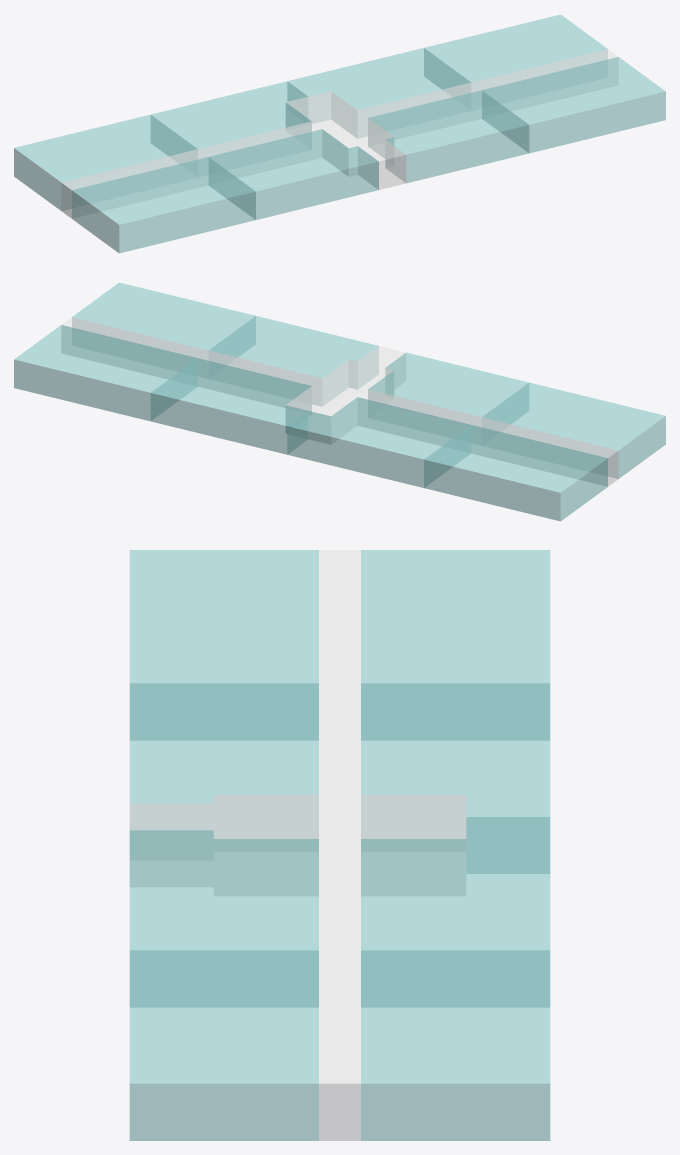
File: Corridor.glb
3 views of the same model, one above another, from view 1: azimuth 30°, elevation 25°; view 2: azimuth 150°, elevation 25°; view 3: azimuth 270°, elevation 25° (orthographic). The views are drawn at different scales.
Parts seen in each view (by area): view 1: f67303aa-89cc-49a1-a274-005ddb12f530_mesh, 304f9625-38fc-4c80-9cea-f953f38c76a2_mesh, b96049c8-8c16-449c-9fcf-3e9167182d77_mesh, 98c9f90e-6d3d-4090-86c8-c45549c8ea35_mesh, a1e814e6-0785-455b-960f-eeeaf71dabd7_mesh, a47fdfaa-7426-4bc4-9e53-7f2433407b07_mesh, 8854cb5b-9d62-4a24-a20a-388bc9da2358_mesh, 31eb7119-86d2-4047-9339-cb577639a1e9_mesh, f6e957ef-61f8-4e37-b6ef-d7fbcb38b0fe_mesh; view 2: f67303aa-89cc-49a1-a274-005ddb12f530_mesh, a47fdfaa-7426-4bc4-9e53-7f2433407b07_mesh, 31eb7119-86d2-4047-9339-cb577639a1e9_mesh, f6e957ef-61f8-4e37-b6ef-d7fbcb38b0fe_mesh, 8854cb5b-9d62-4a24-a20a-388bc9da2358_mesh, 304f9625-38fc-4c80-9cea-f953f38c76a2_mesh, b96049c8-8c16-449c-9fcf-3e9167182d77_mesh, a1e814e6-0785-455b-960f-eeeaf71dabd7_mesh, 98c9f90e-6d3d-4090-86c8-c45549c8ea35_mesh; view 3: f67303aa-89cc-49a1-a274-005ddb12f530_mesh, b96049c8-8c16-449c-9fcf-3e9167182d77_mesh, 31eb7119-86d2-4047-9339-cb577639a1e9_mesh, 304f9625-38fc-4c80-9cea-f953f38c76a2_mesh, a47fdfaa-7426-4bc4-9e53-7f2433407b07_mesh, 8854cb5b-9d62-4a24-a20a-388bc9da2358_mesh, a1e814e6-0785-455b-960f-eeeaf71dabd7_mesh, f6e957ef-61f8-4e37-b6ef-d7fbcb38b0fe_mesh, 98c9f90e-6d3d-4090-86c8-c45549c8ea35_mesh.
Part boxes in pixels (x1=…): f67303aa-89cc-49a1-a274-005ddb12f530_mesh: x1=61, y1=49, x2=618, y2=218; 304f9625-38fc-4c80-9cea-f953f38c76a2_mesh: x1=72, y1=157, x2=255, y2=253; b96049c8-8c16-449c-9fcf-3e9167182d77_mesh: x1=482, y1=57, x2=665, y2=153; 98c9f90e-6d3d-4090-86c8-c45549c8ea35_mesh: x1=209, y1=129, x2=378, y2=219; a1e814e6-0785-455b-960f-eeeaf71dabd7_mesh: x1=368, y1=90, x2=529, y2=183; a47fdfaa-7426-4bc4-9e53-7f2433407b07_mesh: x1=14, y1=114, x2=197, y2=210; 8854cb5b-9d62-4a24-a20a-388bc9da2358_mesh: x1=287, y1=48, x2=470, y2=138; 31eb7119-86d2-4047-9339-cb577639a1e9_mesh: x1=424, y1=14, x2=607, y2=92; f6e957ef-61f8-4e37-b6ef-d7fbcb38b0fe_mesh: x1=151, y1=81, x2=311, y2=158; f67303aa-89cc-49a1-a274-005ddb12f530_mesh: x1=61, y1=317, x2=618, y2=486; a47fdfaa-7426-4bc4-9e53-7f2433407b07_mesh: x1=424, y1=425, x2=607, y2=521; 31eb7119-86d2-4047-9339-cb577639a1e9_mesh: x1=14, y1=325, x2=197, y2=421; f6e957ef-61f8-4e37-b6ef-d7fbcb38b0fe_mesh: x1=287, y1=397, x2=470, y2=487; 8854cb5b-9d62-4a24-a20a-388bc9da2358_mesh: x1=150, y1=358, x2=311, y2=454; 304f9625-38fc-4c80-9cea-f953f38c76a2_mesh: x1=482, y1=382, x2=665, y2=478; b96049c8-8c16-449c-9fcf-3e9167182d77_mesh: x1=72, y1=282, x2=255, y2=360; a1e814e6-0785-455b-960f-eeeaf71dabd7_mesh: x1=209, y1=316, x2=378, y2=406; 98c9f90e-6d3d-4090-86c8-c45549c8ea35_mesh: x1=368, y1=352, x2=528, y2=426; f67303aa-89cc-49a1-a274-005ddb12f530_mesh: x1=129, y1=550, x2=466, y2=1140; b96049c8-8c16-449c-9fcf-3e9167182d77_mesh: x1=129, y1=950, x2=318, y2=1140; 31eb7119-86d2-4047-9339-cb577639a1e9_mesh: x1=361, y1=950, x2=550, y2=1140; 304f9625-38fc-4c80-9cea-f953f38c76a2_mesh: x1=129, y1=550, x2=318, y2=740; a47fdfaa-7426-4bc4-9e53-7f2433407b07_mesh: x1=361, y1=550, x2=550, y2=740; 8854cb5b-9d62-4a24-a20a-388bc9da2358_mesh: x1=361, y1=817, x2=550, y2=1007; a1e814e6-0785-455b-960f-eeeaf71dabd7_mesh: x1=129, y1=830, x2=318, y2=1007; f6e957ef-61f8-4e37-b6ef-d7fbcb38b0fe_mesh: x1=361, y1=683, x2=550, y2=873; 98c9f90e-6d3d-4090-86c8-c45549c8ea35_mesh: x1=129, y1=683, x2=318, y2=838.
Size of the model in its own units: 60 by 3 by 20.
